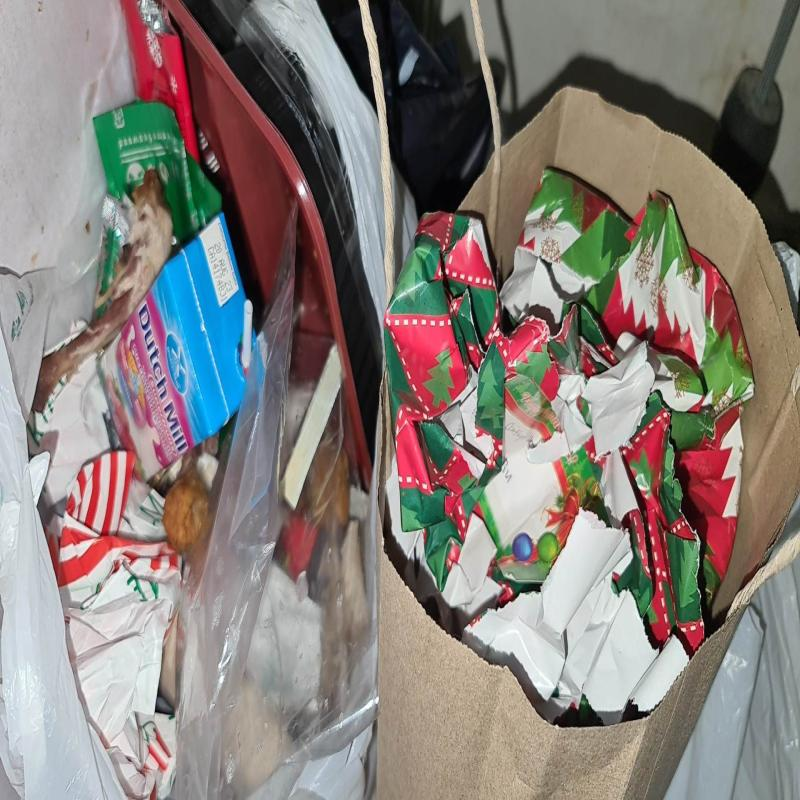left-over food: (32, 166, 173, 414)
paper: (385, 168, 755, 732), (47, 451, 185, 800)
uht carton: (103, 212, 253, 483)
